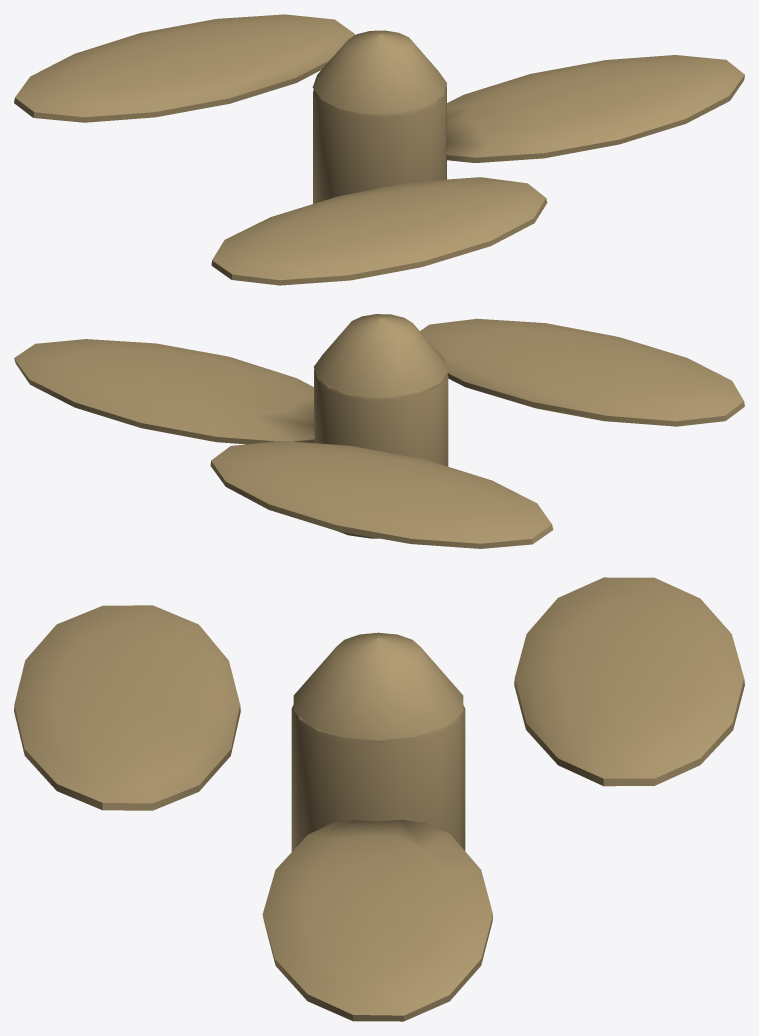
File: fan.glb
3 views of the same model, one above another, from view 1: azimuth 30°, elevation 25°; view 2: azimuth 150°, elevation 25°; view 3: azimuth 270°, elevation 25° (orthographic). The views are drawn at different scales.
Visible parts, largest first — view 1: boat_brass; view 2: boat_brass; view 3: boat_brass.
Boxes of the visible parts, bbox=[...] form: boat_brass: bbox=[14, 14, 744, 285]; boat_brass: bbox=[14, 314, 744, 548]; boat_brass: bbox=[14, 577, 744, 1021].
Size of the model in its own units: 0.6316 by 0.19 by 0.5048.
